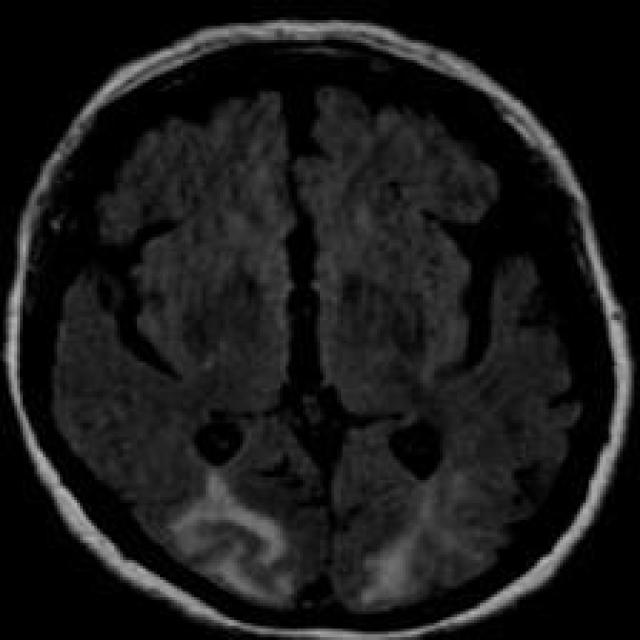no_tumor: (5, 25, 640, 640)
